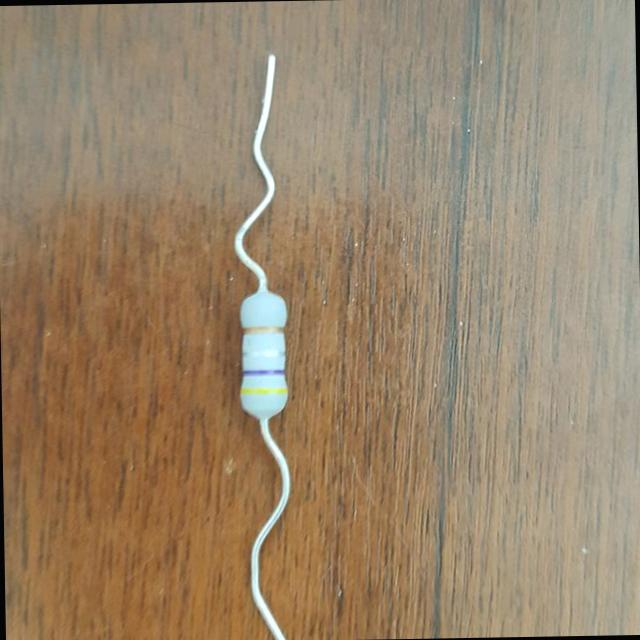Resistor: (239, 290, 287, 420)
gold: (244, 327, 284, 335)
purple: (243, 370, 283, 376)
silver: (243, 350, 285, 358)
yellow: (241, 388, 288, 394)
